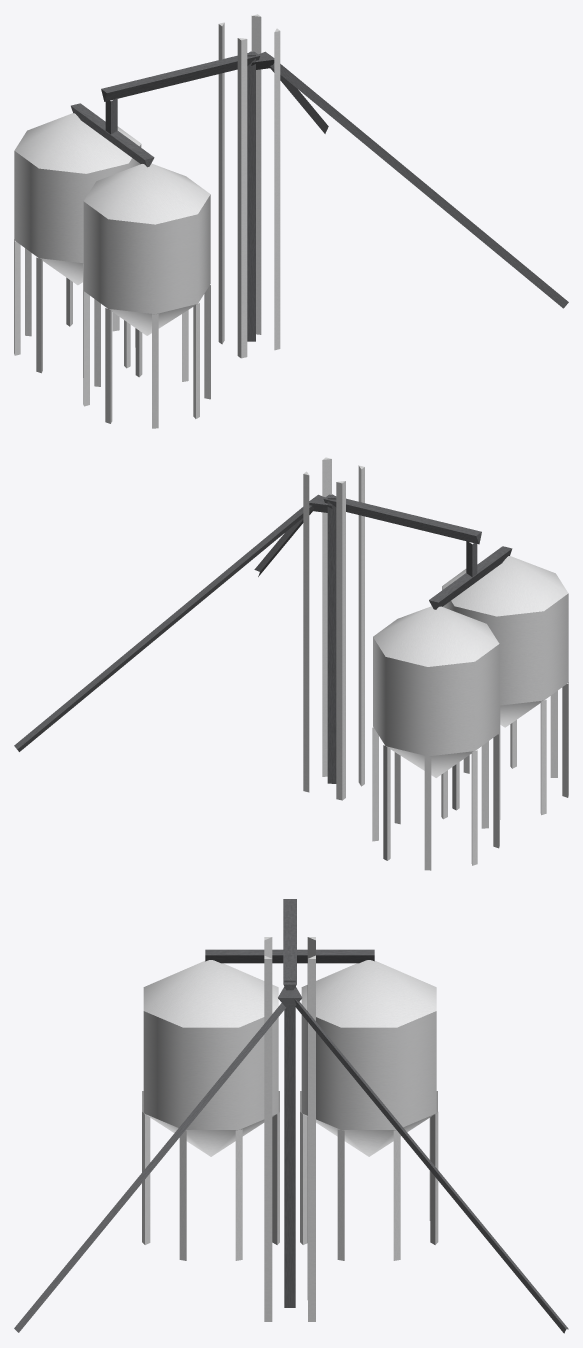
The model's file is grain-silo-hopper-loader-cbj_LOD02.gltf.
3 renders of one model, top to bottom at view 1: azimuth 30°, elevation 25°; view 2: azimuth 150°, elevation 25°; view 3: azimuth 270°, elevation 25°, orthographic. The views are drawn at different scales.
Parts seen in each view (by area): view 1: grain-silo02; view 2: grain-silo02; view 3: grain-silo02.
Boxes of the visible parts, bbox=[...] form: grain-silo02: bbox=[14, 14, 568, 428]; grain-silo02: bbox=[14, 457, 568, 870]; grain-silo02: bbox=[14, 899, 568, 1333].
Size of the model in its own units: 45.5 by 35.5 by 49.17.
